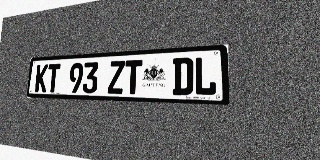3: (82, 62, 98, 93)
9: (68, 63, 84, 93)
D: (172, 57, 193, 95)
K: (35, 64, 48, 92)
L: (194, 56, 216, 96)
T: (124, 60, 142, 94), (46, 64, 61, 93)
Z: (107, 61, 125, 94)
